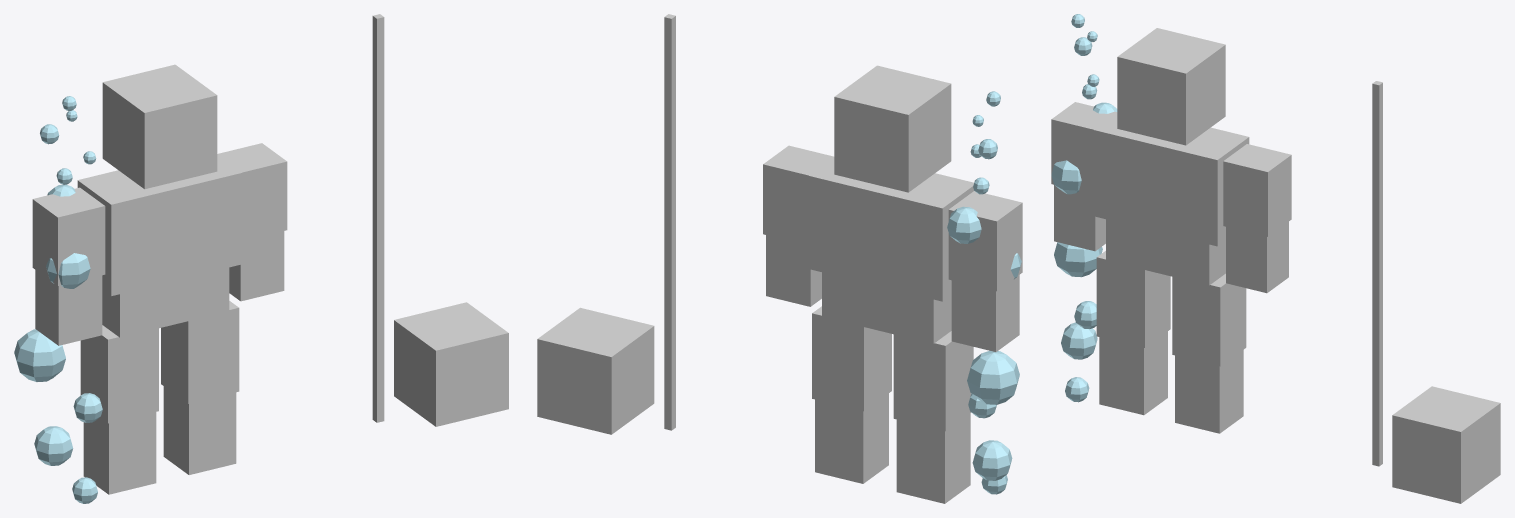
File: Bubbles2_LOD0_roblox.fbx
3 views of the same model, side by side, from view 1: azimuth 30°, elevation 25°; view 2: azimuth 150°, elevation 25°; view 3: azimuth 330°, elevation 25° (orthographic). The views are drawn at different scales.
Visible parts, largest first — view 1: Ref_UpperTorso, Ref_Head, 1_Stud_Cube, Ref_RightUpperLeg, Ref_LeftUpperLeg, Ref_LowerTorso, Ref_LeftUpperArm, Ref_RightLowerLeg, 5.3_Stud_Height_Ruler, Ref_LeftLowerLeg, Ref_RightUpperArm, Ref_LeftLowerArm (+6 smaller); view 2: Ref_UpperTorso, 1_Stud_Cube, Ref_Head, Ref_LeftUpperLeg, Ref_RightUpperLeg, Ref_LowerTorso, Ref_LeftLowerLeg, Ref_RightLowerLeg, Ref_LeftUpperArm, 5.3_Stud_Height_Ruler, Ref_RightUpperArm, Ref_LeftLowerArm (+4 smaller); view 3: Ref_UpperTorso, 1_Stud_Cube, Ref_Head, Ref_RightUpperLeg, Ref_LeftUpperLeg, Ref_RightUpperArm, Ref_LowerTorso, Ref_LeftLowerLeg, Ref_RightLowerLeg, 5.3_Stud_Height_Ruler, Ref_RightLowerArm, Ref_LeftUpperArm (+5 smaller).
Part boxes in pixels (x1,y1,x2,y2): Ref_UpperTorso: (77, 155, 242, 296); Ref_Head: (102, 64, 217, 189); 1_Stud_Cube: (394, 302, 508, 426); Ref_RightUpperLeg: (161, 301, 239, 403); Ref_LeftUpperLeg: (80, 325, 158, 423); Ref_LowerTorso: (102, 267, 229, 337); Ref_LeftUpperArm: (32, 187, 105, 285); Ref_RightLowerLeg: (163, 386, 236, 474); 5.3_Stud_Height_Ruler: (372, 14, 384, 422); Ref_LeftLowerLeg: (83, 412, 156, 494); Ref_RightUpperArm: (217, 143, 287, 240); Ref_LeftLowerArm: (35, 270, 102, 345); Ref_UpperTorso: (809, 157, 973, 301); 1_Stud_Cube: (537, 307, 654, 434); Ref_Head: (834, 65, 951, 192); Ref_LeftUpperLeg: (893, 331, 973, 431); Ref_RightUpperLeg: (812, 306, 891, 411); Ref_LowerTorso: (822, 272, 951, 343); Ref_LeftLowerLeg: (896, 413, 970, 503); Ref_RightLowerLeg: (815, 393, 888, 483); Ref_LeftUpperArm: (948, 191, 1022, 291); 5.3_Stud_Height_Ruler: (664, 14, 675, 430); Ref_RightUpperArm: (763, 145, 833, 245); Ref_LeftLowerArm: (951, 275, 1019, 351); Ref_UpperTorso: (1093, 113, 1249, 246); 1_Stud_Cube: (1392, 386, 1500, 503); Ref_Head: (1117, 28, 1225, 145); Ref_RightUpperLeg: (1172, 273, 1246, 366); Ref_LeftUpperLeg: (1096, 251, 1170, 347); Ref_RightUpperArm: (1223, 144, 1291, 236); Ref_LowerTorso: (1106, 219, 1225, 285); Ref_LeftLowerLeg: (1099, 331, 1167, 415); Ref_RightLowerLeg: (1175, 350, 1243, 433); 5.3_Stud_Height_Ruler: (1372, 81, 1382, 466); Ref_RightLowerArm: (1226, 222, 1288, 293); Ref_LeftUpperArm: (1051, 102, 1117, 194).
Bounding box in the file's own units: 6.32 × 1.07 × 5.3.
